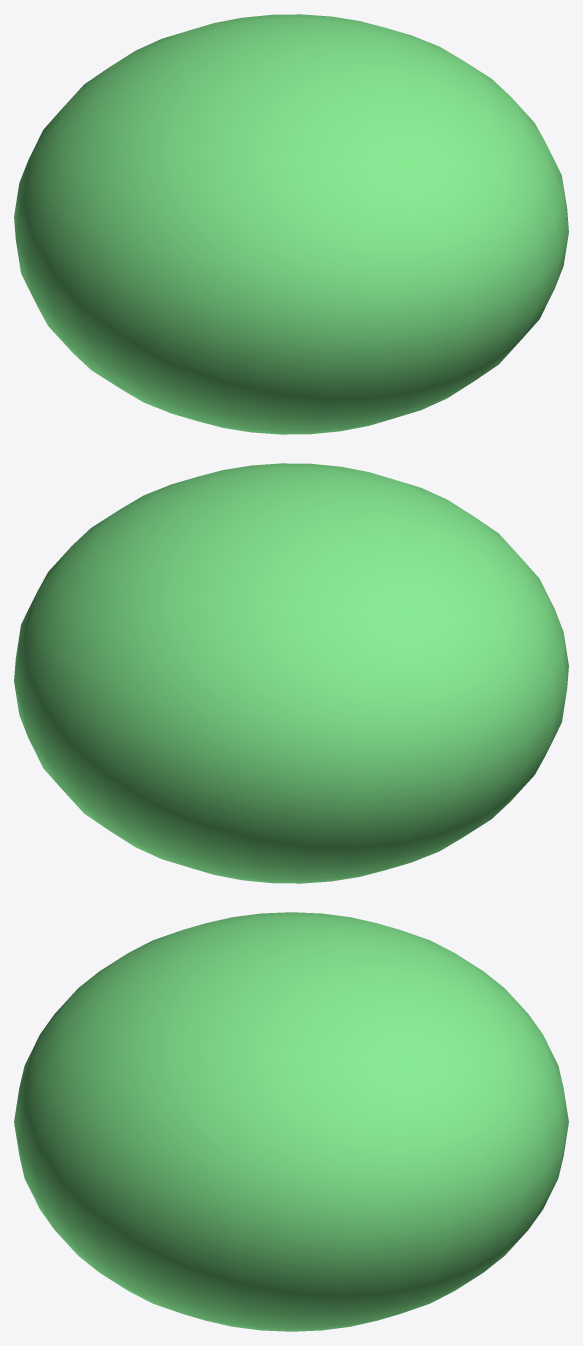
File: kingskill_1.fbx
3 views of the same model, one above another, from view 1: azimuth 30°, elevation 25°; view 2: azimuth 150°, elevation 25°; view 3: azimuth 270°, elevation 25° (orthographic).
Visible parts, largest first — view 1: Sphere; view 2: Sphere; view 3: Sphere.
Part boxes in pixels (bbox=[...]): Sphere: bbox=[14, 14, 568, 434]; Sphere: bbox=[14, 463, 568, 883]; Sphere: bbox=[14, 912, 568, 1331].
Bounding box in the file's own units: 41.14 × 28.45 × 41.14.
